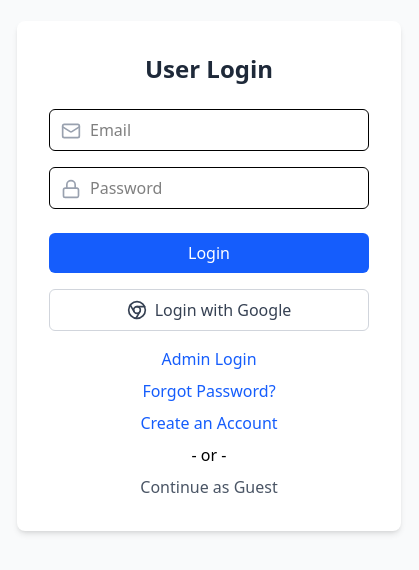
Test: UserLogin Component › handles network error during login
The width and height of the screenshot is (419, 570).
Type "test@example.com" into the field with placeholder "Email".
click(209, 130); type("test@example.com")  # box [49,109,369,151]
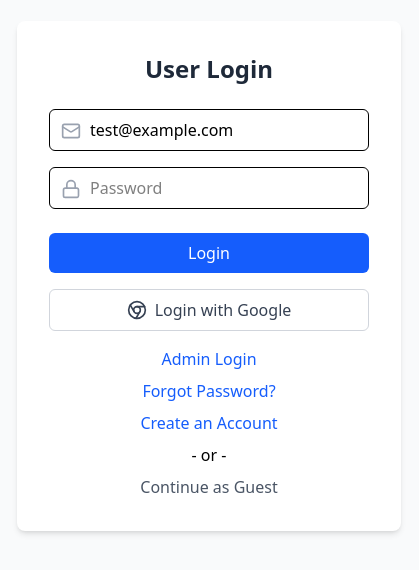
Type "password123" into the password field with placeholder "Password".
click(209, 188); type("password123")  # box [49,167,369,209]
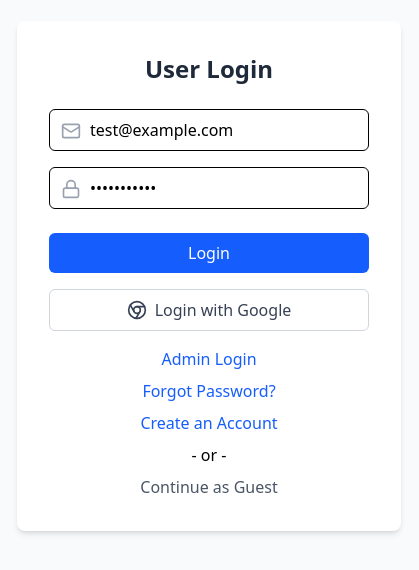
Click the button "Login".
click(209, 253)  # box [49,233,369,273]
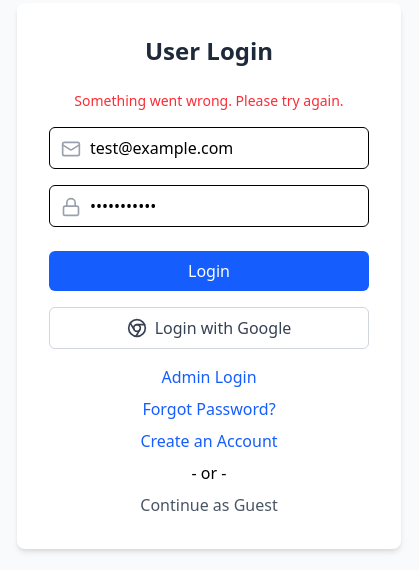
Result: the text "Something went wrong. Please try again." is shown at [74,91,344,110]
